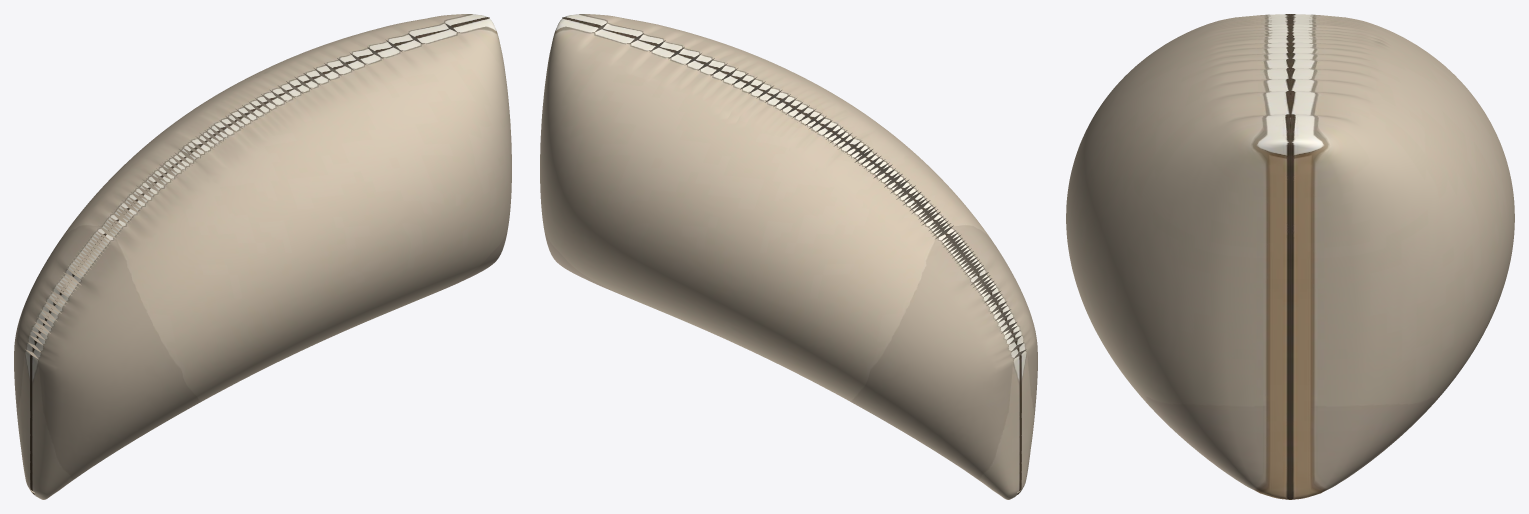
Rendered from curved_corner_wall.glb.
3 renders of one model, left to right at view 1: azimuth 30°, elevation 25°; view 2: azimuth 150°, elevation 25°; view 3: azimuth 270°, elevation 25°, orthographic. The views are drawn at different scales.
Parts seen in each view (by area): view 1: curved_corner_wall; view 2: curved_corner_wall; view 3: curved_corner_wall.
Boxes of the visible parts, box(x1,y1,x2,y2) form: curved_corner_wall: box(14, 14, 511, 499); curved_corner_wall: box(540, 14, 1037, 499); curved_corner_wall: box(1066, 14, 1514, 499).
Size of the model in its own units: 0.989 by 0.7624 by 0.553.
1 material, 1 textured.
